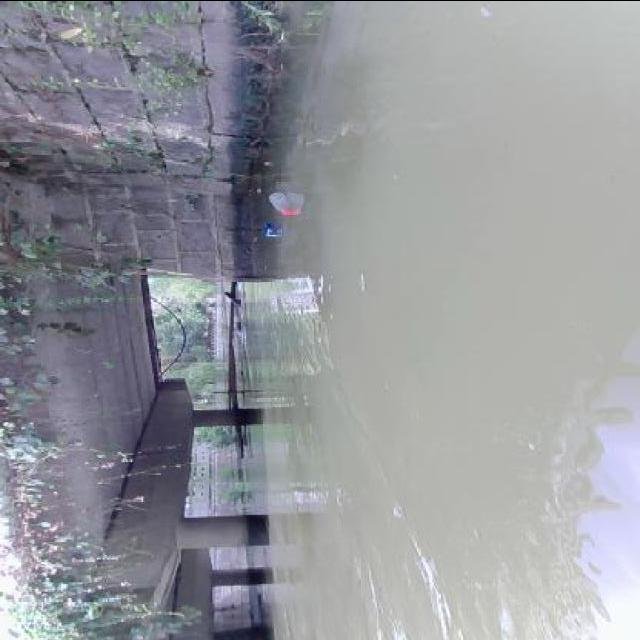Bottle: (268, 190, 300, 219)
